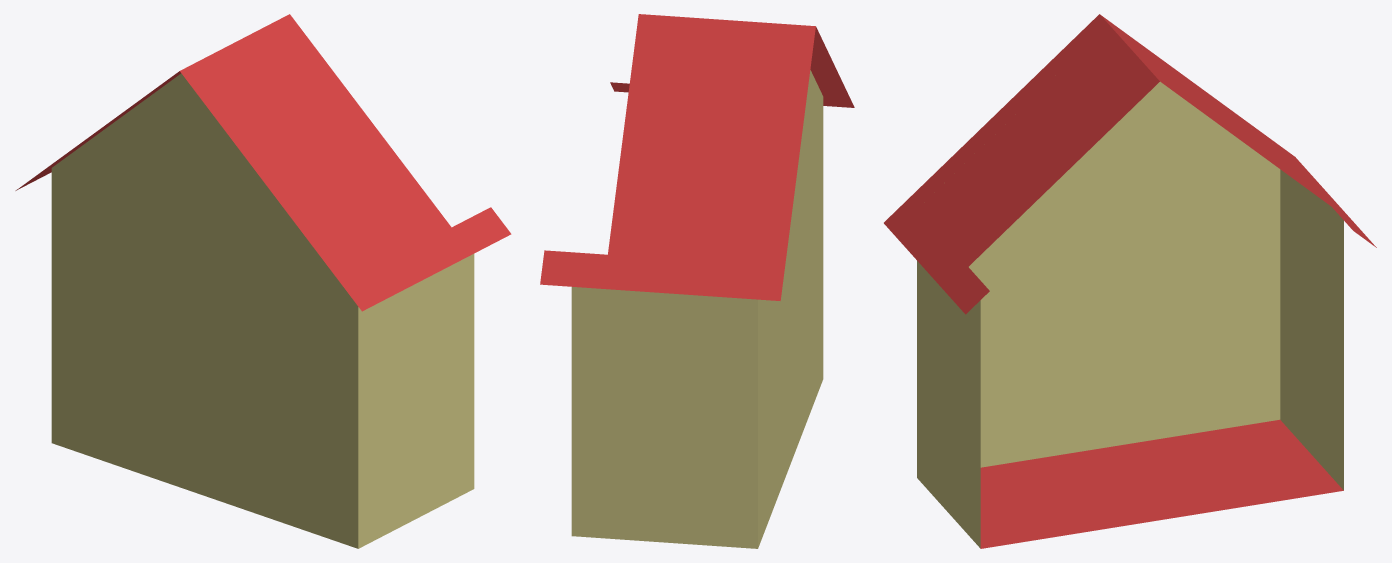
The picture shows the model from 3 angles, left to right: view 1: azimuth 30°, elevation 25°; view 2: azimuth 150°, elevation 25°; view 3: azimuth 270°, elevation 25°; orthographic projection. The views are drawn at different scales.
Size of the model in its own units: 10.73 by 14.21 by 13.41.
